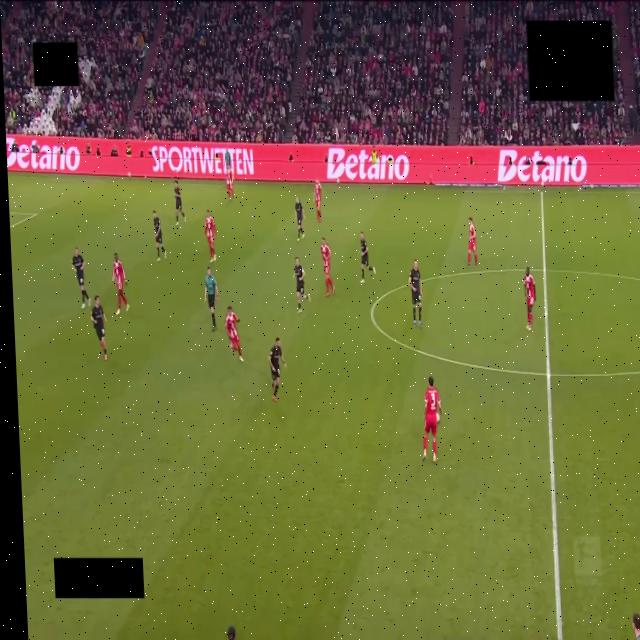ball: (435, 413, 441, 423)
player: (422, 376, 441, 463), (72, 248, 91, 308), (269, 337, 286, 401), (112, 253, 129, 314), (91, 296, 107, 360), (225, 306, 243, 361), (293, 257, 310, 312), (409, 260, 422, 327), (360, 232, 375, 283), (523, 267, 535, 330), (321, 238, 334, 296), (153, 210, 166, 261), (204, 210, 216, 262), (174, 180, 185, 225), (468, 217, 477, 268), (295, 197, 304, 241), (314, 180, 321, 222), (227, 166, 233, 201)
referee: (205, 267, 218, 331)
